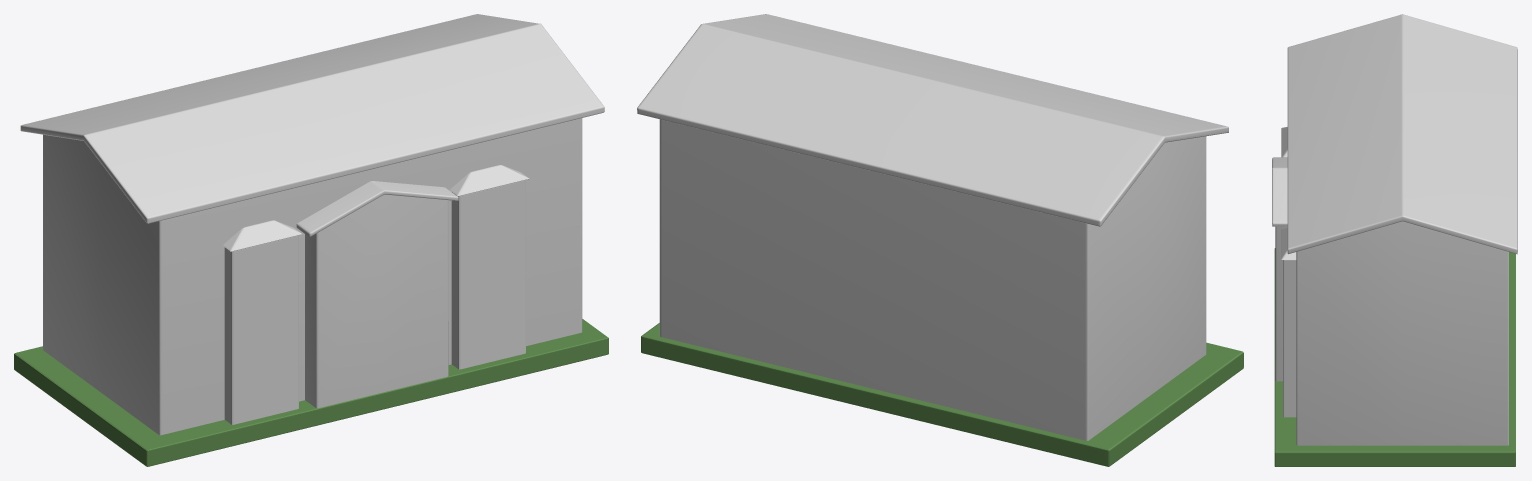
3 renders of one model, left to right at view 1: azimuth 30°, elevation 25°; view 2: azimuth 150°, elevation 25°; view 3: azimuth 270°, elevation 25°, orthographic. The views are drawn at different scales.
Visible parts, largest first — view 1: Cube.098; view 2: Cube.098; view 3: Cube.098.
Part boxes in pixels (x1,y1,x2,y2): Cube.098: (14,14,608,466); Cube.098: (637,14,1243,466); Cube.098: (1272,14,1517,466).
Bounding box in the file's own units: 2751 × 1574 × 1388.
